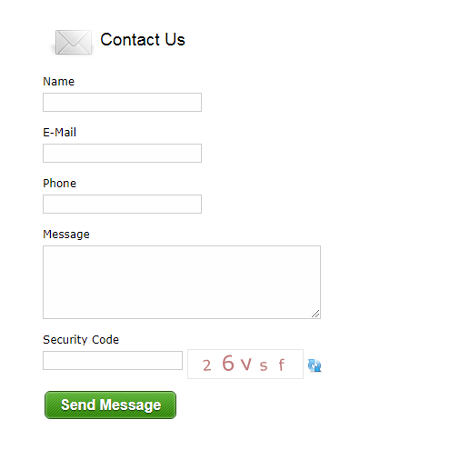_form_: (3, 31, 419, 447)
button: (44, 390, 178, 421)
field: (42, 244, 321, 320), (42, 194, 203, 215), (42, 92, 202, 113), (42, 143, 202, 164), (42, 350, 183, 372)
field_with_label: (40, 229, 324, 322), (39, 76, 204, 115), (40, 178, 205, 217), (40, 127, 203, 166), (40, 334, 185, 374)
